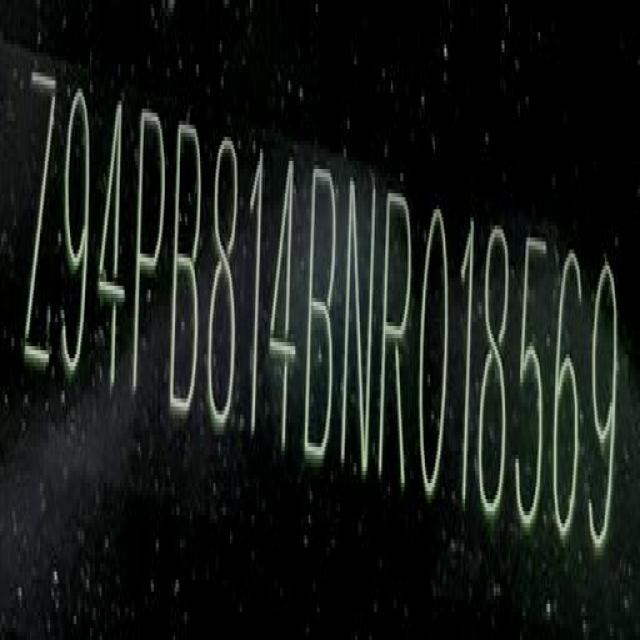0: (419, 204, 448, 512)
1: (247, 136, 266, 442), (458, 207, 474, 516)
4: (93, 87, 124, 398), (269, 149, 296, 455)
5: (513, 222, 547, 532)
6: (552, 230, 583, 541)
8: (206, 132, 241, 432), (478, 230, 510, 517)
9: (59, 82, 92, 385), (587, 252, 619, 549)
B: (302, 158, 336, 467), (170, 118, 202, 422)
N: (341, 174, 377, 482)
P: (130, 97, 165, 399)
R: (377, 185, 411, 498)
Z: (22, 66, 58, 382)
